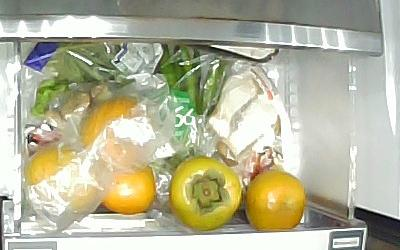persimmon: (169, 156, 241, 230), (245, 171, 307, 232), (103, 165, 154, 214)
persimmon_vinyl: (82, 98, 140, 164), (29, 149, 94, 207)
